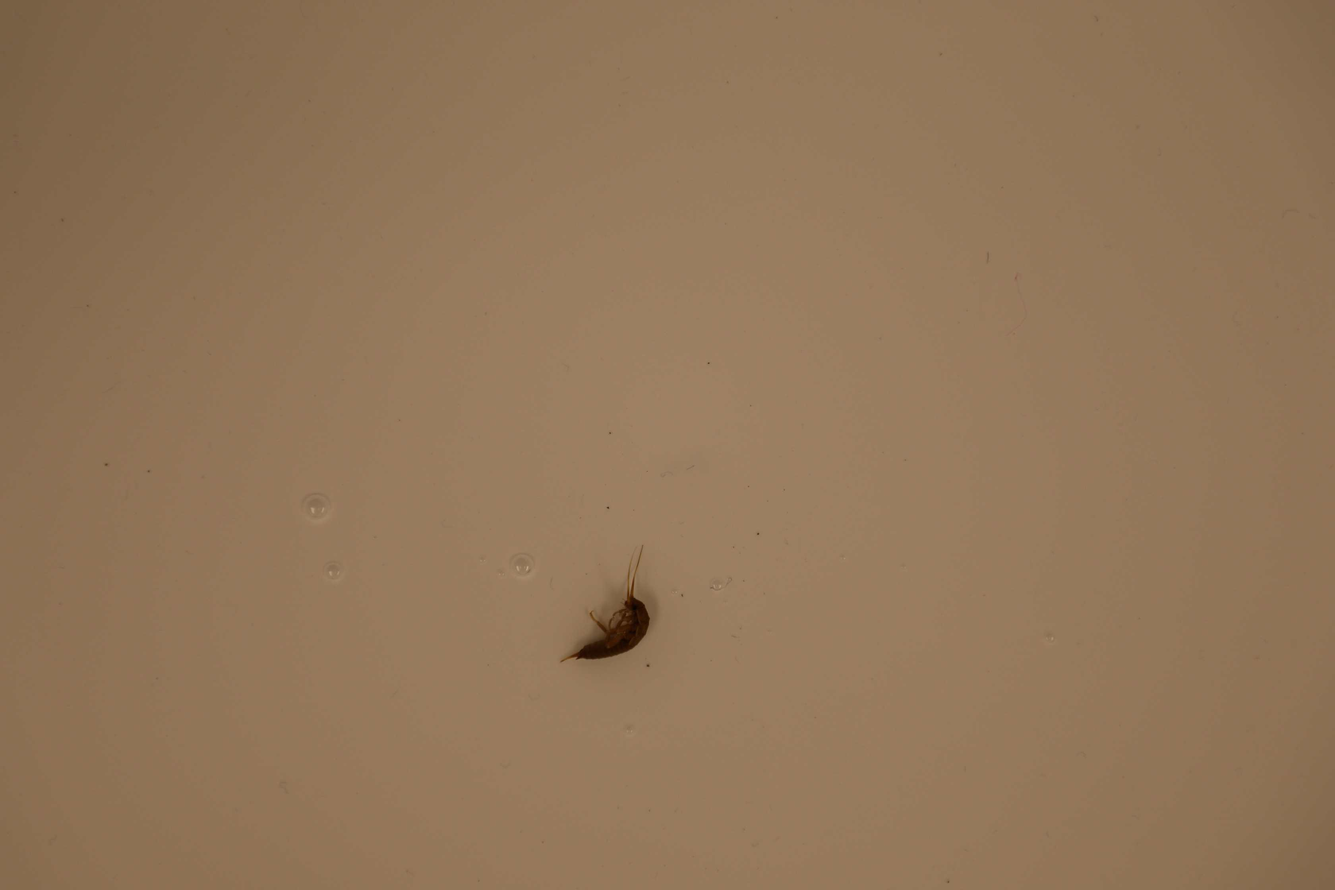Stonefly: (558, 543, 649, 672)
